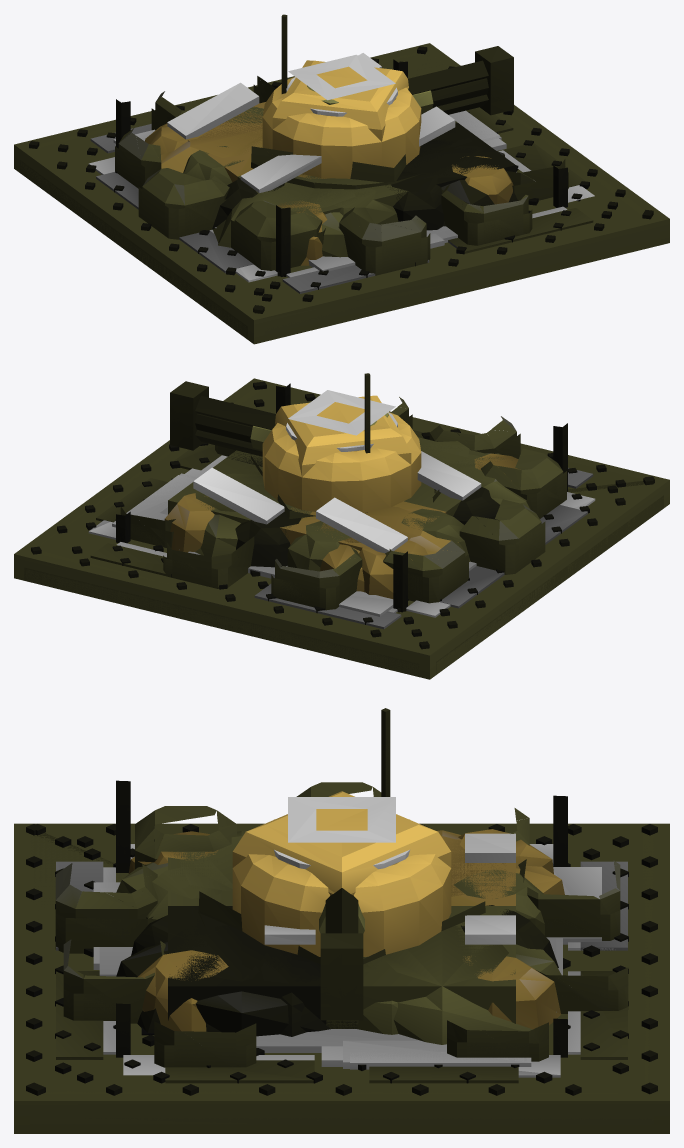
File: meridian_decoy_emplacement_heavily_damaged.glb
The picture shows the model from 3 angles, top to bottom: view 1: azimuth 30°, elevation 25°; view 2: azimuth 150°, elevation 25°; view 3: azimuth 270°, elevation 25°; orthographic projection. The views are drawn at different scales.
Parts seen in each view (by area): view 1: body (×3), turret (×2), barrel (×3); view 2: body (×3), turret (×2), barrel (×3); view 3: body (×3), turret (×2), barrel (×3).
Part boxes in pixels (x1=…): body (×3): x1=14, y1=43, x2=669, y2=344; turret (×2): x1=262, y1=14, x2=421, y2=178; barrel (×3): x1=408, y1=46, x2=513, y2=115; body (×3): x1=14, y1=378, x2=669, y2=679; turret (×2): x1=262, y1=373, x2=421, y2=512; barrel (×3): x1=170, y1=381, x2=275, y2=456; body (×3): x1=14, y1=780, x2=669, y2=1133; turret (×2): x1=232, y1=708, x2=451, y2=956; barrel (×3): x1=319, y1=888, x2=364, y2=1020.
Bounding box in the file's own units: 3.6 × 1.56 × 3.6.
